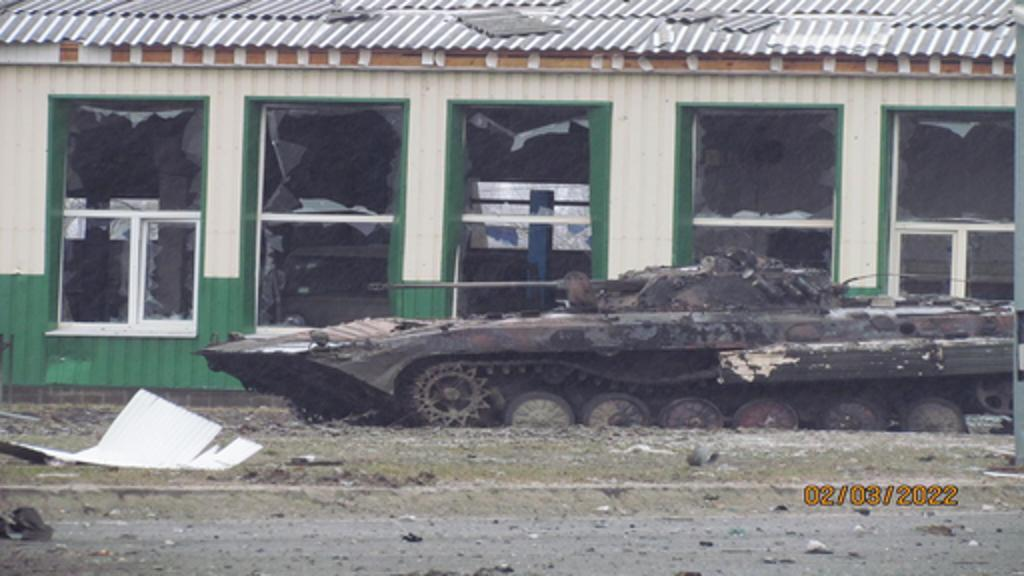APC-IFV: (178, 226, 1020, 440)
